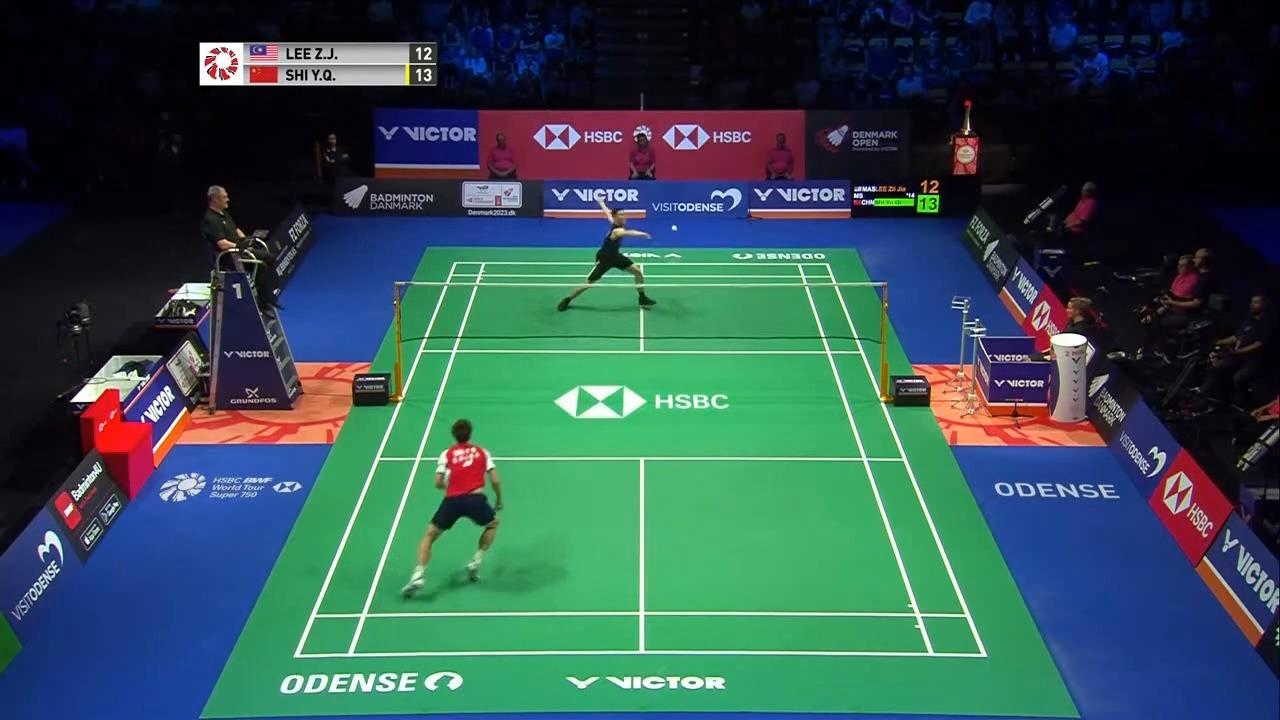shuttle: (670, 224, 678, 234)
